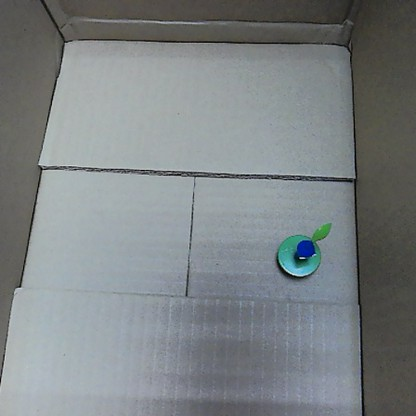leafairy: (276, 217, 329, 280)
